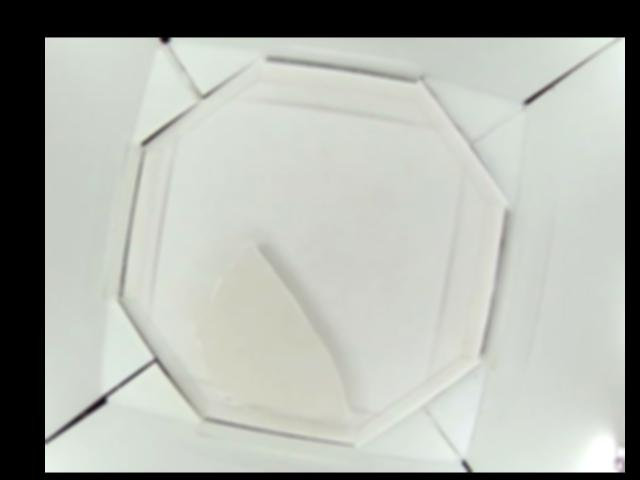China: (199, 240, 353, 426)
